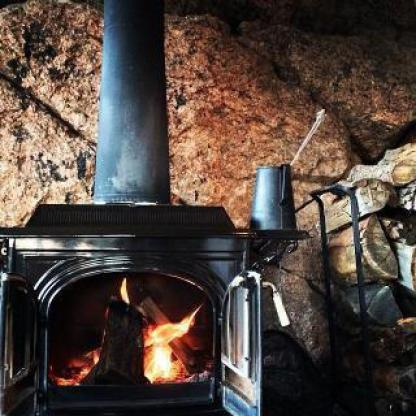fire: (140, 298, 208, 382), (53, 339, 106, 390)
